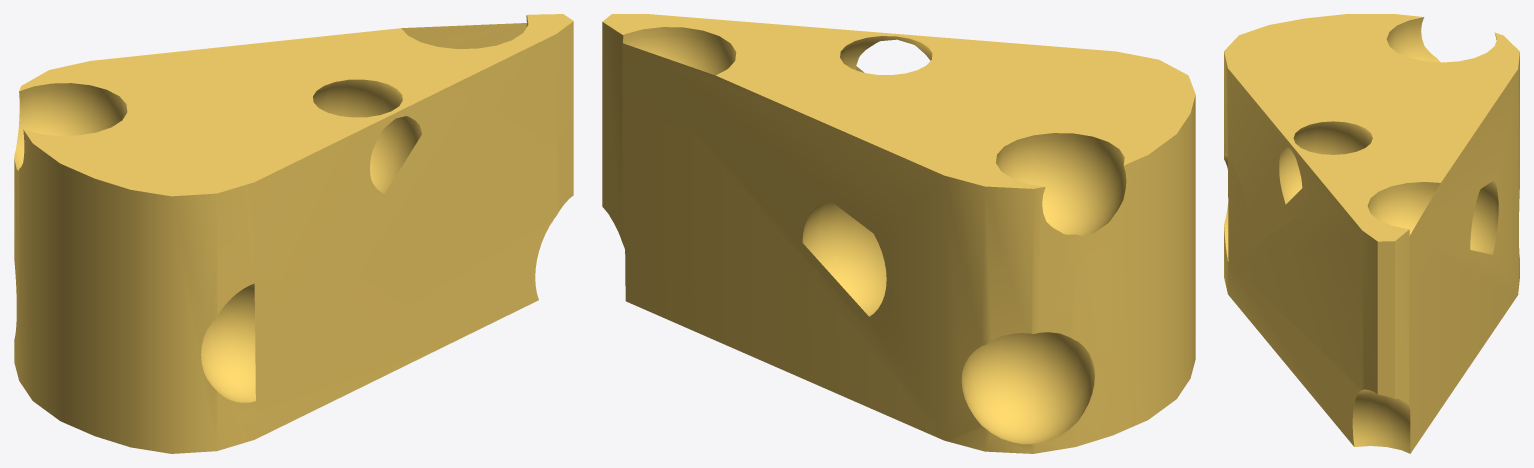
File: objectsdebouffe_3.fbx
3 renders of one model, left to right at view 1: azimuth 30°, elevation 25°; view 2: azimuth 150°, elevation 25°; view 3: azimuth 270°, elevation 25°, orthographic. The views are drawn at different scales.
Visible parts, largest first — view 1: objectsdebouffe_3; view 2: objectsdebouffe_3; view 3: objectsdebouffe_3.
Boxes of the visible parts, box(x1,y1,x2,y2) form: objectsdebouffe_3: box(14, 14, 573, 453); objectsdebouffe_3: box(602, 14, 1195, 453); objectsdebouffe_3: box(1224, 14, 1519, 453).
Bounding box in the file's own units: 42.65 × 19.77 × 23.44.
